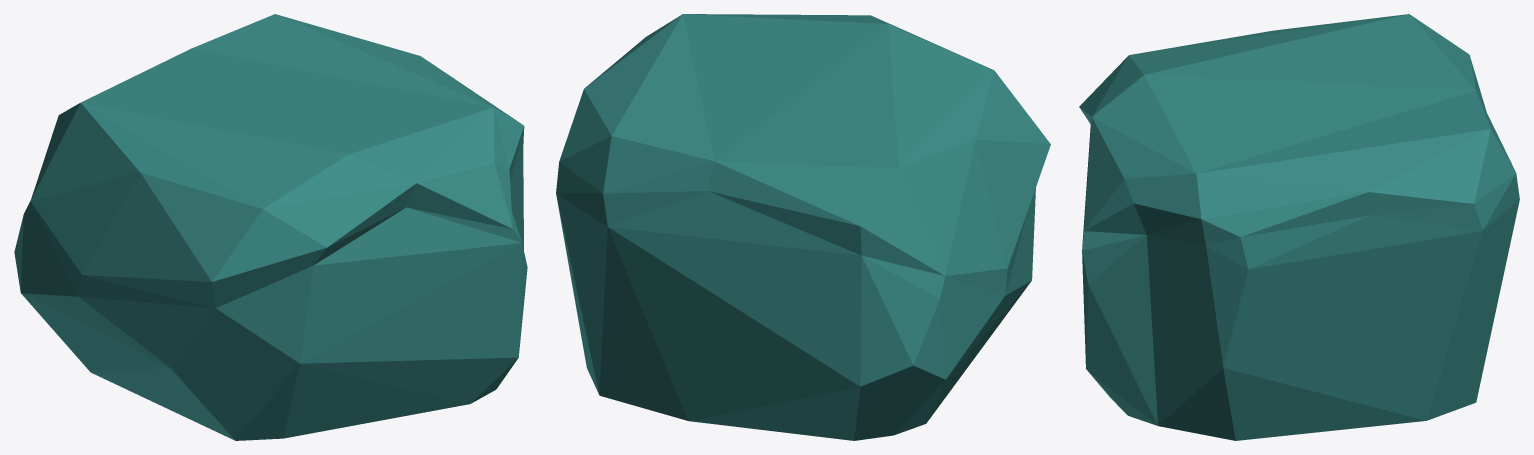
The model's file is SM_Rock_Sea_Small_Flat_Seaweed_A.fbx.
The picture shows the model from 3 angles, left to right: view 1: azimuth 30°, elevation 25°; view 2: azimuth 150°, elevation 25°; view 3: azimuth 270°, elevation 25°; orthographic projection. The views are drawn at different scales.
Visible parts, largest first — view 1: rock-sea-small-flat-seaweed-a; view 2: rock-sea-small-flat-seaweed-a; view 3: rock-sea-small-flat-seaweed-a.
Part boxes in pixels (x1,y1,x2,y2): rock-sea-small-flat-seaweed-a: (14, 14, 527, 440); rock-sea-small-flat-seaweed-a: (556, 14, 1050, 440); rock-sea-small-flat-seaweed-a: (1079, 14, 1519, 440).
Size of the model in its own units: 1.01 by 0.6319 by 0.9178.
